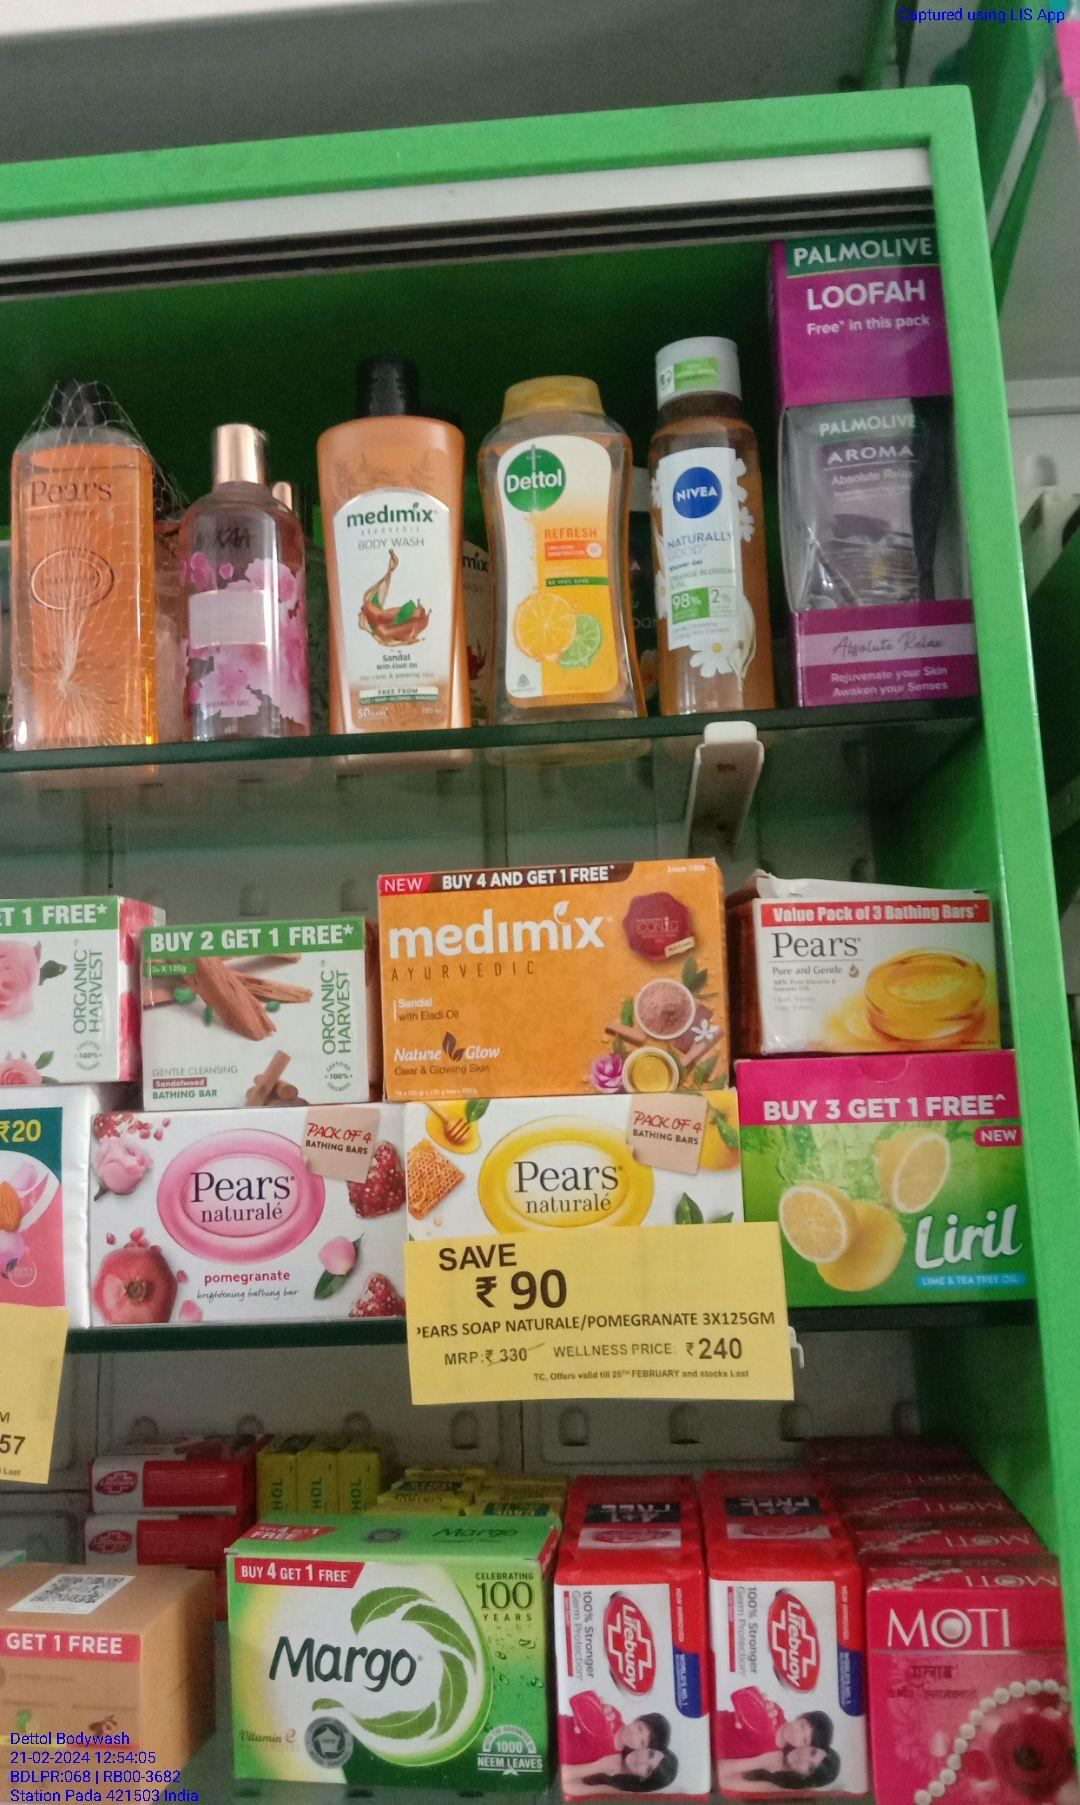Dettol_Bodywash_Refresh: (477, 369, 642, 720)
